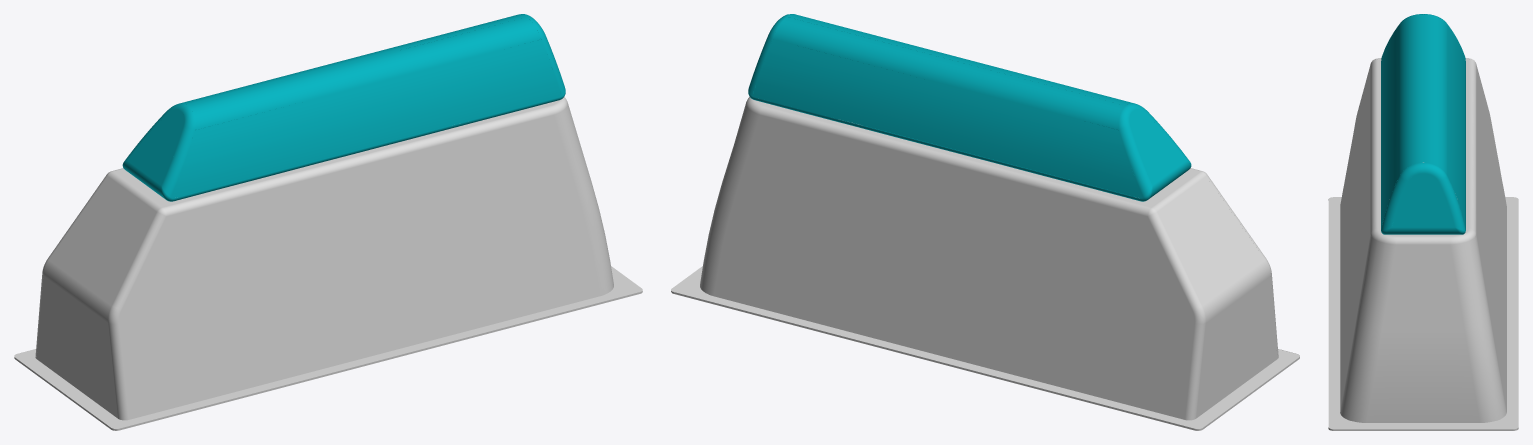
Rendered from sed1.glb.
The picture shows the model from 3 angles, left to right: view 1: azimuth 30°, elevation 25°; view 2: azimuth 150°, elevation 25°; view 3: azimuth 270°, elevation 25°; orthographic projection. The views are drawn at different scales.
Visible parts, largest first — view 1: seat, object 1; view 2: seat, object 1; view 3: seat, object 1.
Boxes of the visible parts, left/top/right/bottom form: seat: left=14, top=97, right=642, bottom=430; object 1: left=122, top=14, right=565, bottom=201; seat: left=671, top=97, right=1299, bottom=430; object 1: left=748, top=14, right=1191, bottom=201; seat: left=1328, top=58, right=1518, bottom=430; object 1: left=1381, top=14, right=1465, bottom=234.
Size of the model in its own units: 1.5 by 0.7148 by 0.5.
